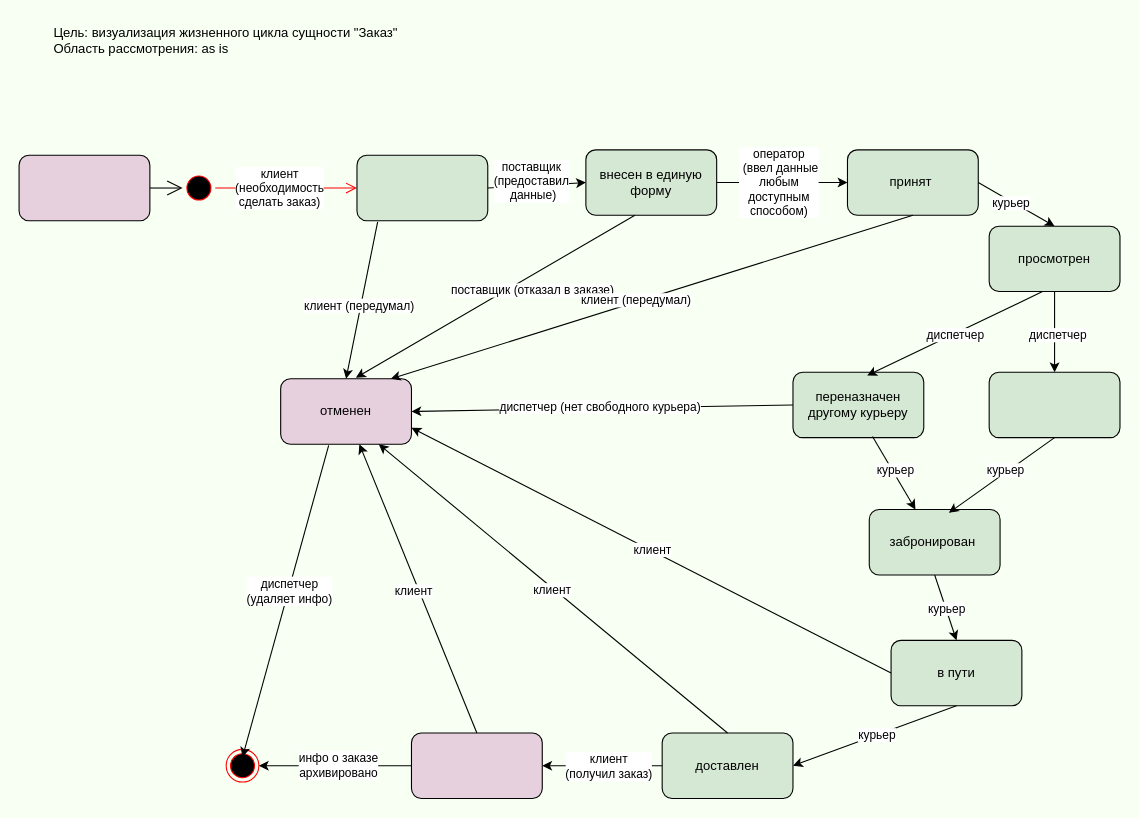
Image size: 1139x818. Some labels were removed from this diagram. The box of each missing label's shape, as (x1, y1, x2, y2) in pixels:
Заказ не существует: (18, 154, 150, 221)
назначен курьеру: (988, 371, 1120, 438)
оплачен: (410, 732, 542, 798)
создан: (356, 154, 488, 221)
